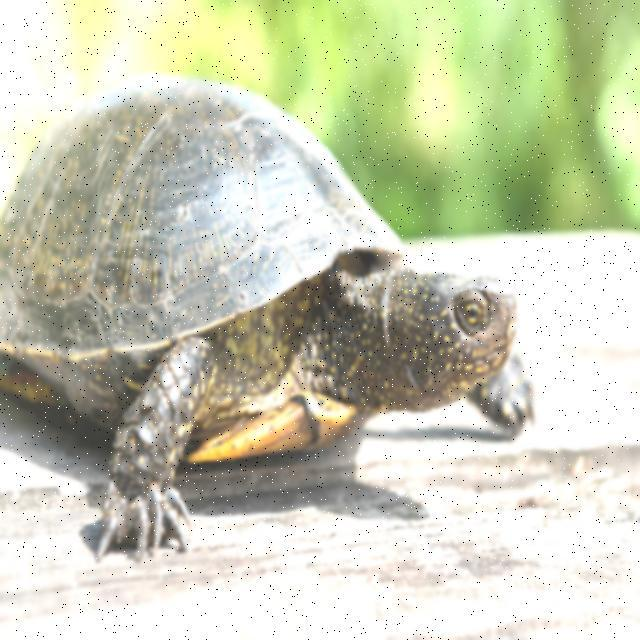tortoise: (2, 62, 558, 566)
